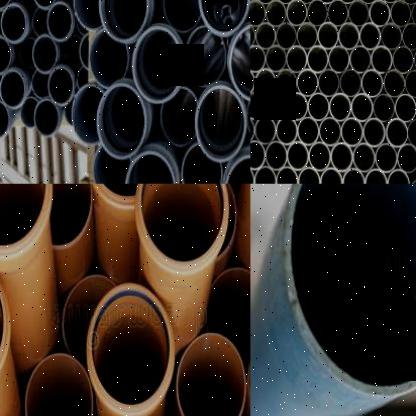pipe: (285, 184, 416, 395), (88, 284, 171, 408), (136, 184, 226, 266), (176, 333, 246, 416), (62, 274, 119, 370), (24, 353, 93, 416), (206, 266, 250, 364), (132, 23, 184, 104), (195, 84, 246, 164), (96, 83, 147, 160), (0, 183, 47, 250), (45, 184, 92, 246), (186, 24, 227, 87), (160, 85, 201, 147), (90, 26, 128, 88), (97, 0, 149, 43), (72, 83, 106, 145), (197, 0, 250, 35), (124, 151, 176, 184), (181, 143, 222, 184), (230, 21, 250, 103), (85, 184, 171, 202), (94, 144, 131, 184), (162, 0, 200, 32), (46, 0, 74, 42), (0, 2, 28, 43), (48, 65, 75, 107), (72, 0, 106, 31), (32, 34, 58, 74), (0, 69, 25, 109), (34, 99, 58, 137), (362, 118, 386, 149), (375, 143, 398, 174), (331, 142, 354, 173), (318, 117, 341, 148), (309, 142, 332, 172), (383, 69, 406, 99), (287, 141, 309, 172), (266, 141, 288, 172), (276, 116, 298, 147), (373, 93, 395, 124), (353, 143, 375, 173), (386, 119, 408, 149), (342, 118, 364, 148), (298, 117, 320, 147), (254, 116, 276, 146), (352, 93, 374, 123), (308, 92, 330, 122), (286, 92, 308, 122), (361, 69, 383, 99), (340, 69, 362, 99), (318, 69, 340, 99), (276, 68, 298, 98), (254, 68, 276, 98), (370, 45, 392, 75), (328, 45, 350, 75), (306, 45, 328, 75), (338, 22, 360, 52), (330, 93, 352, 122), (265, 92, 287, 121), (296, 69, 318, 98), (392, 46, 414, 75), (286, 45, 308, 74), (395, 94, 416, 124), (350, 46, 372, 74), (380, 23, 402, 51), (359, 23, 381, 51), (390, 0, 412, 28), (276, 22, 297, 51), (297, 22, 318, 51), (396, 144, 416, 174), (368, 0, 390, 27), (255, 23, 276, 51), (265, 0, 286, 28), (348, 0, 369, 28), (318, 22, 338, 51), (63, 36, 82, 66), (328, 0, 349, 27), (307, 0, 328, 27), (286, 0, 307, 27), (266, 45, 286, 73), (20, 37, 37, 69), (21, 97, 38, 128), (32, 70, 50, 99), (250, 140, 266, 171), (32, 7, 48, 37), (250, 92, 266, 121), (250, 44, 266, 73), (0, 35, 11, 75), (250, 0, 265, 28), (402, 23, 416, 52), (298, 166, 320, 184), (276, 166, 298, 184), (254, 166, 276, 184), (364, 168, 388, 184), (320, 168, 343, 184), (342, 168, 364, 184), (404, 70, 416, 99), (0, 100, 9, 138), (387, 170, 410, 184), (407, 119, 416, 150), (31, 0, 58, 9), (250, 22, 256, 51), (250, 68, 256, 96), (411, 1, 416, 28), (18, 0, 36, 7), (316, 0, 337, 5), (256, 0, 276, 5), (338, 0, 358, 5), (64, 0, 78, 7), (413, 46, 416, 75), (400, 0, 416, 5)
